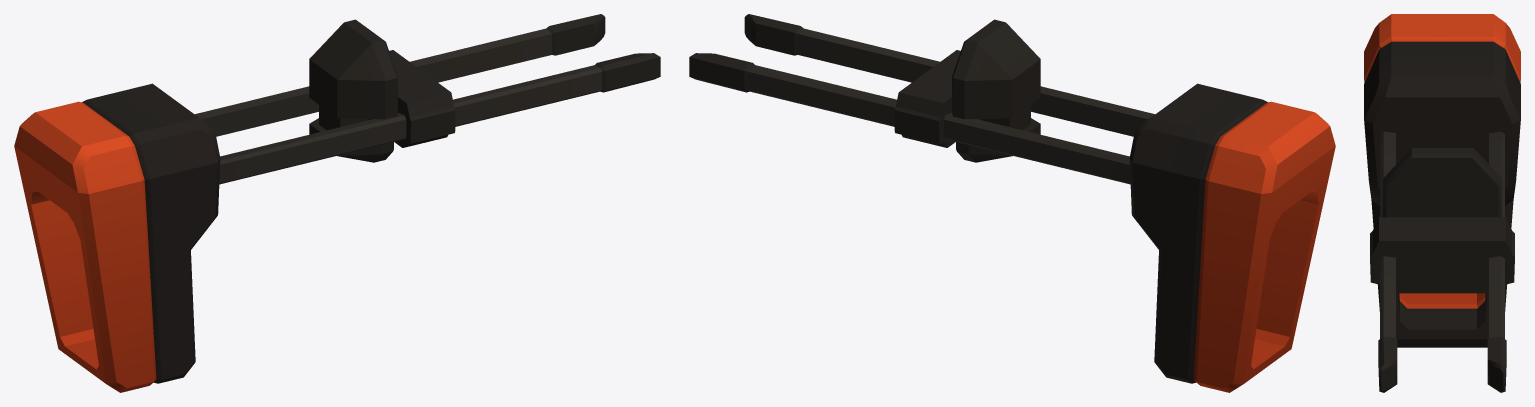
File: SMG2_ButtstockLight.fbx
3 views of the same model, side by side, from view 1: azimuth 30°, elevation 25°; view 2: azimuth 150°, elevation 25°; view 3: azimuth 270°, elevation 25° (orthographic). The views are drawn at different scales.
Visible parts, largest first — view 1: SMG2_ButtstockLight; view 2: SMG2_ButtstockLight; view 3: SMG2_ButtstockLight.
Boxes of the visible parts, left/top/right/bottom form: SMG2_ButtstockLight: left=14, top=14, right=660, bottom=392; SMG2_ButtstockLight: left=689, top=14, right=1335, bottom=392; SMG2_ButtstockLight: left=1364, top=14, right=1520, bottom=392.
Size of the model in its own units: 34.02 by 15.48 by 7.21.
